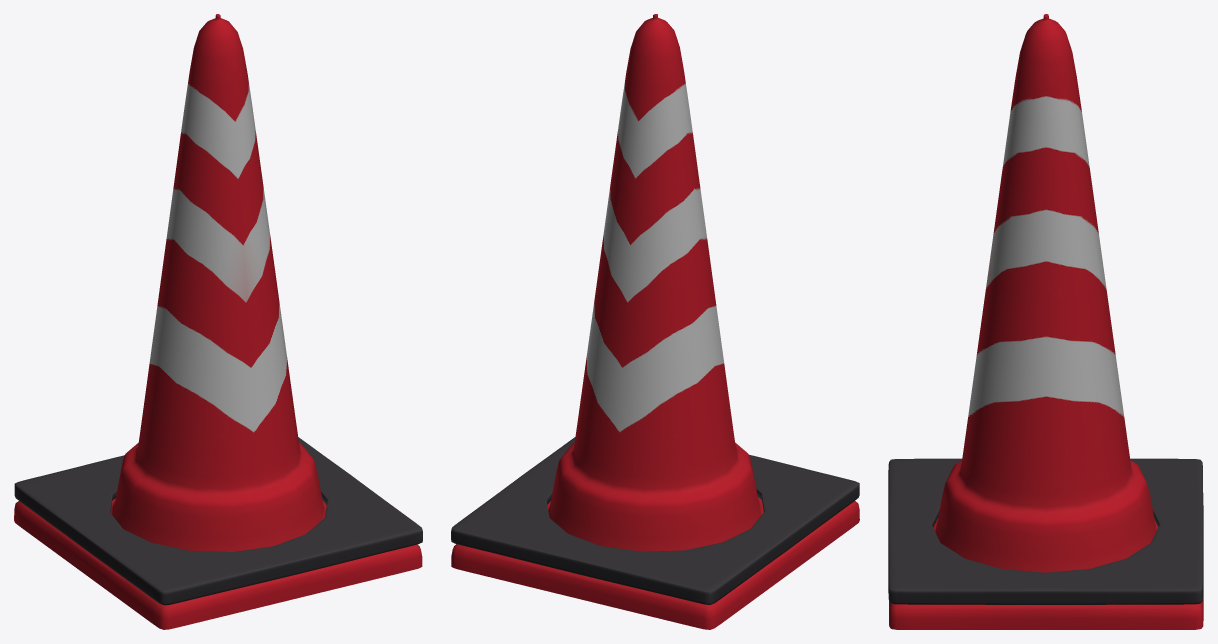
The model's file is ColorCone_Scotch_Red.fbx.
3 views of the same model, side by side, from view 1: azimuth 30°, elevation 25°; view 2: azimuth 150°, elevation 25°; view 3: azimuth 270°, elevation 25° (orthographic). The views are drawn at different scales.
Visible parts, largest first — view 1: ColorCone_Scotch_Red; view 2: ColorCone_Scotch_Red; view 3: ColorCone_Scotch_Red.
Part boxes in pixels (box(x1,y1,x2,y2)): ColorCone_Scotch_Red: box(14, 14, 422, 629); ColorCone_Scotch_Red: box(451, 14, 859, 629); ColorCone_Scotch_Red: box(888, 14, 1203, 629).
Size of the model in its own units: 38.04 by 38.06 by 73.14.
Materials: 1 (1 with a texture image).
